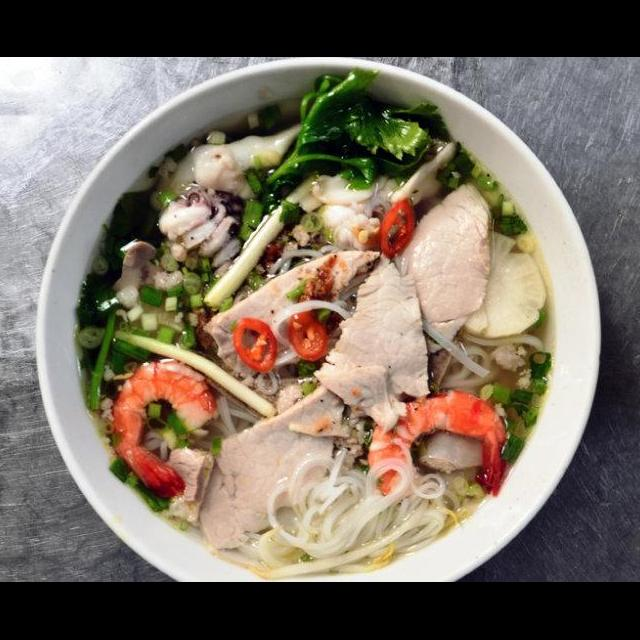banh hu tieu: (212, 442, 456, 582)
hu tieu: (44, 80, 605, 582)
muc: (150, 184, 256, 272)
thit heo: (306, 246, 438, 436), (392, 174, 502, 360), (203, 399, 331, 534)
tom: (362, 382, 520, 508), (106, 352, 222, 504)
